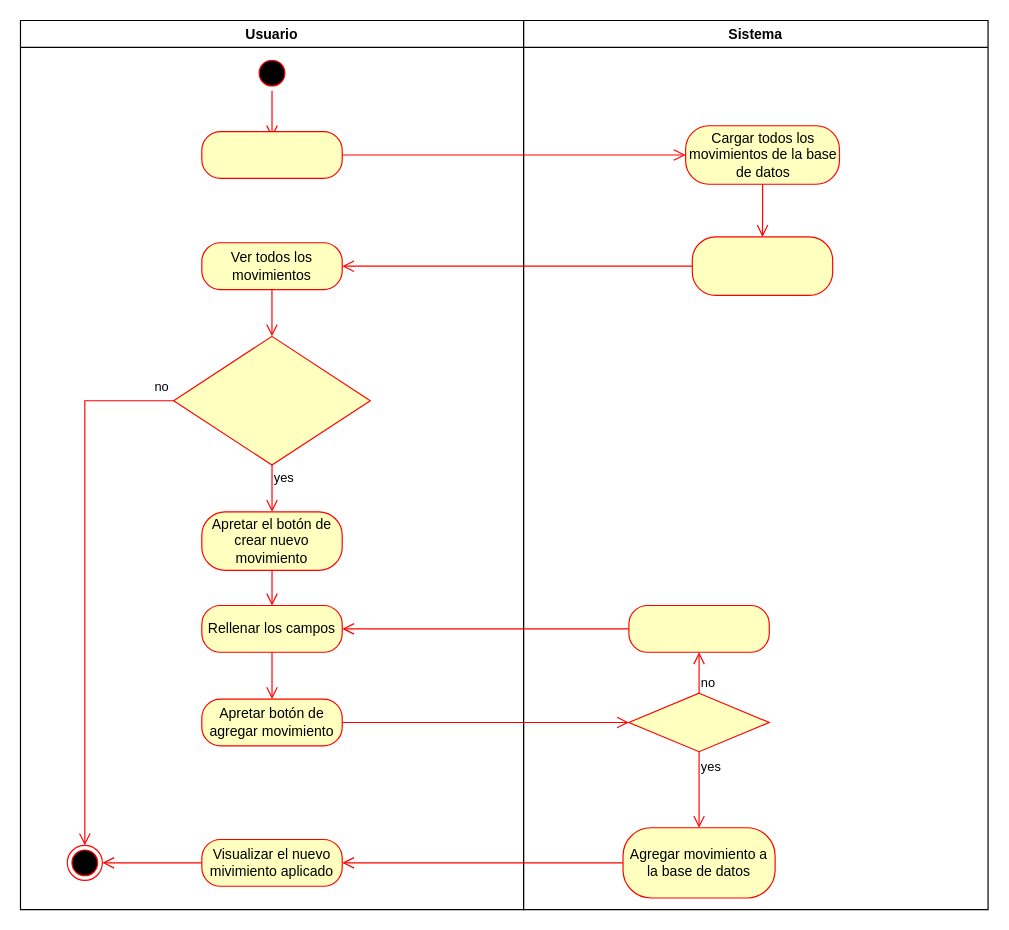
Some shapes in this 1009 by 930 pixel diagram are drawn without their labels. The shapes that lost their labels are listed below. From the top down, each one's centre as x and y in pixels, then its label:
At (x=271, y=154): "Ir a la sección de movimientos".
At (x=762, y=265): "Enviar todos los movimientos al usuario".
At (x=271, y=400): "Deseas hacer un nuevo movimiento?".
At (x=698, y=628): "Enviar Mensaje de Error".
At (x=698, y=722): "Validar Datos".
